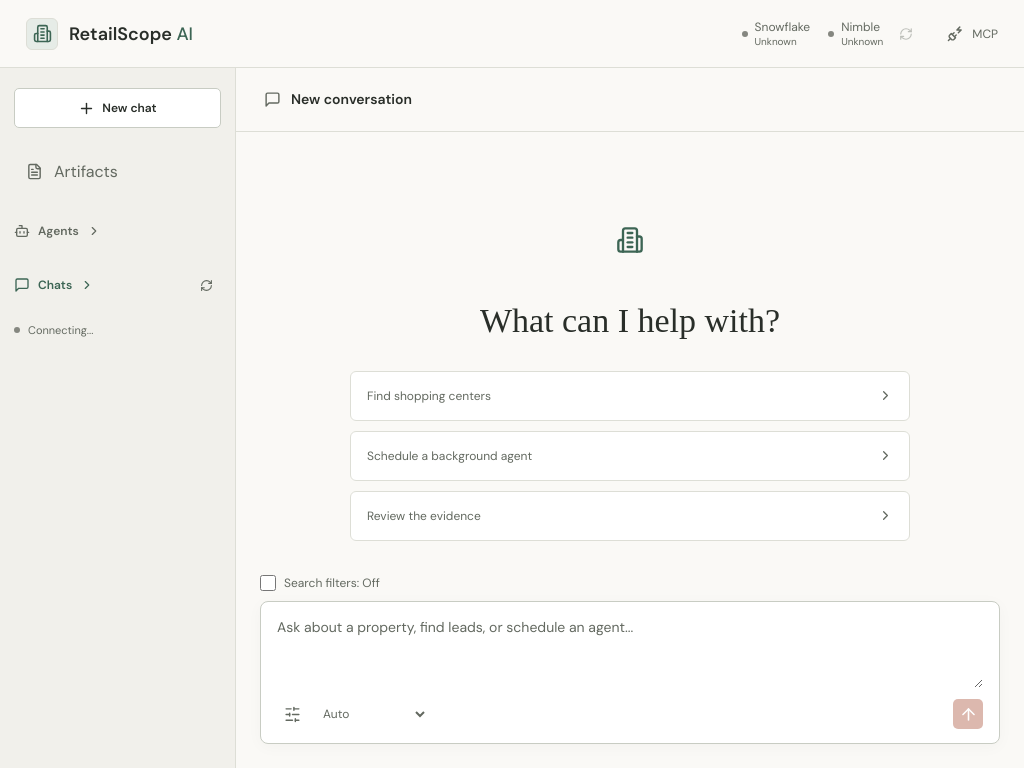
it: chat-first workspace › applies preferences to fresh research only when enabled=false
The image size is (1024, 768).
Click the button named "Search preferences" at (292, 714), box [277,699,307,729]
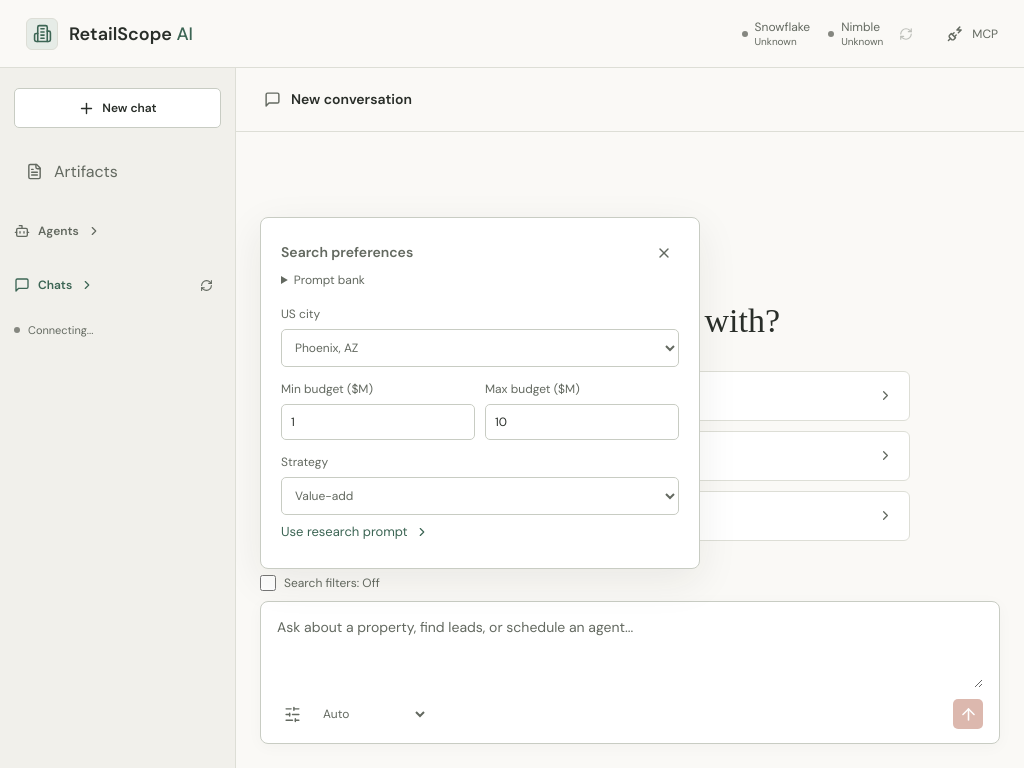
Select "Austin, TX" in the dropdown labelled "US city" at (480, 348), box [281,329,679,367]
Replace the text in the number field labelled "Min budget ($M)" with "2" at (378, 422), box [281,404,475,440]
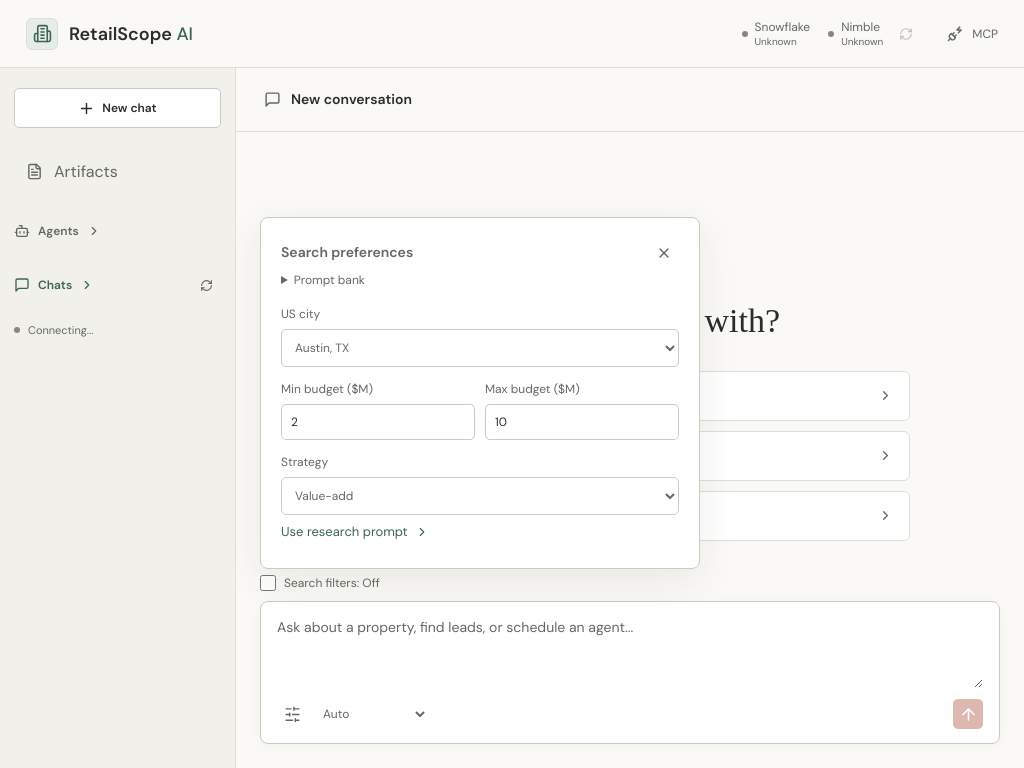
Select "Income" in the dropdown labelled "Strategy" at (480, 496), box [281,477,679,515]
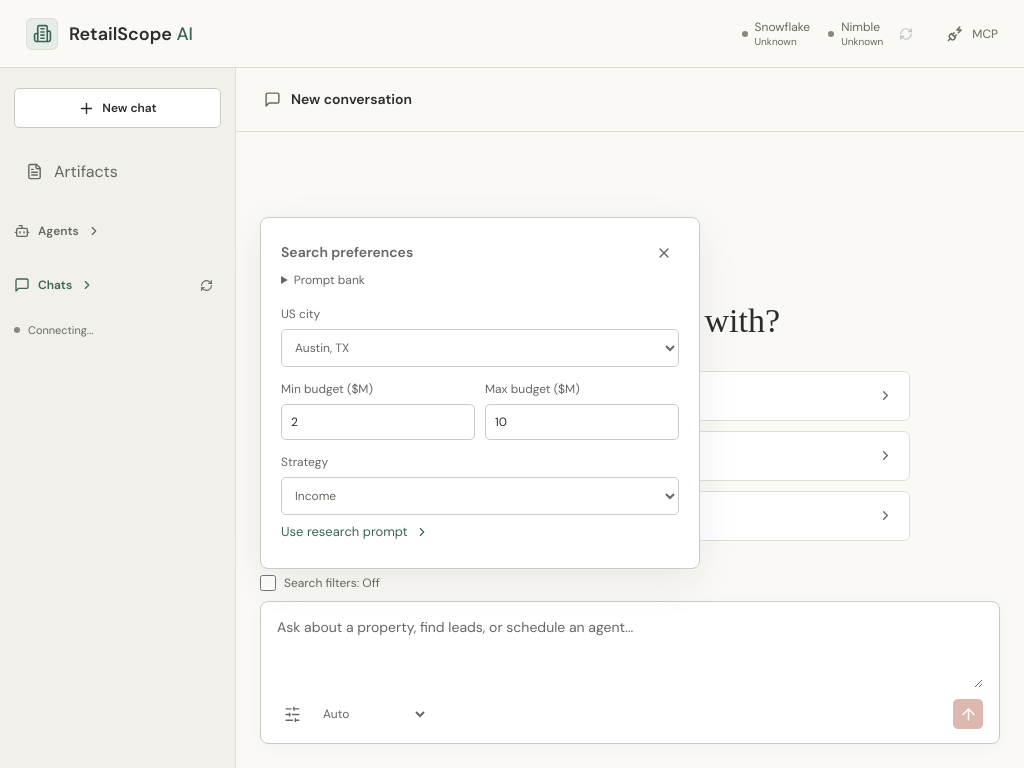
Click the button named "Close preferences" at (664, 253), box [649,238,679,268]
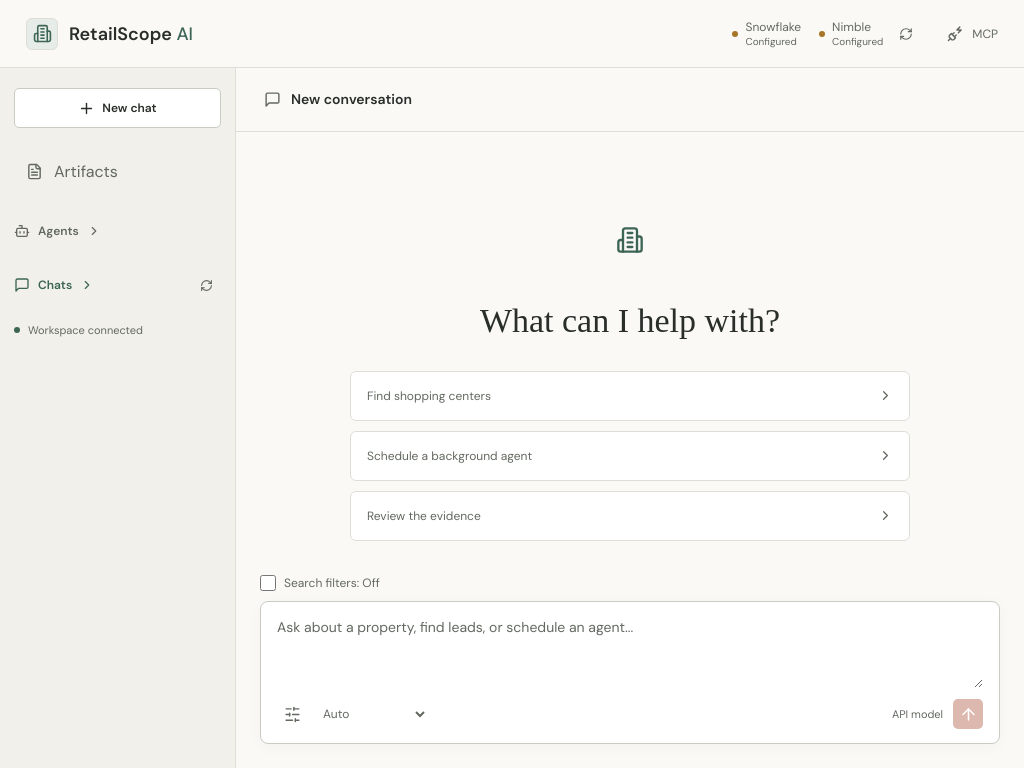
expect the text "Workspace connected" is shown: met, box [14,323,143,337]
Type "Find retail properties" into the text box named "Message RetailScope" at (630, 652), box [277,616,983,688]
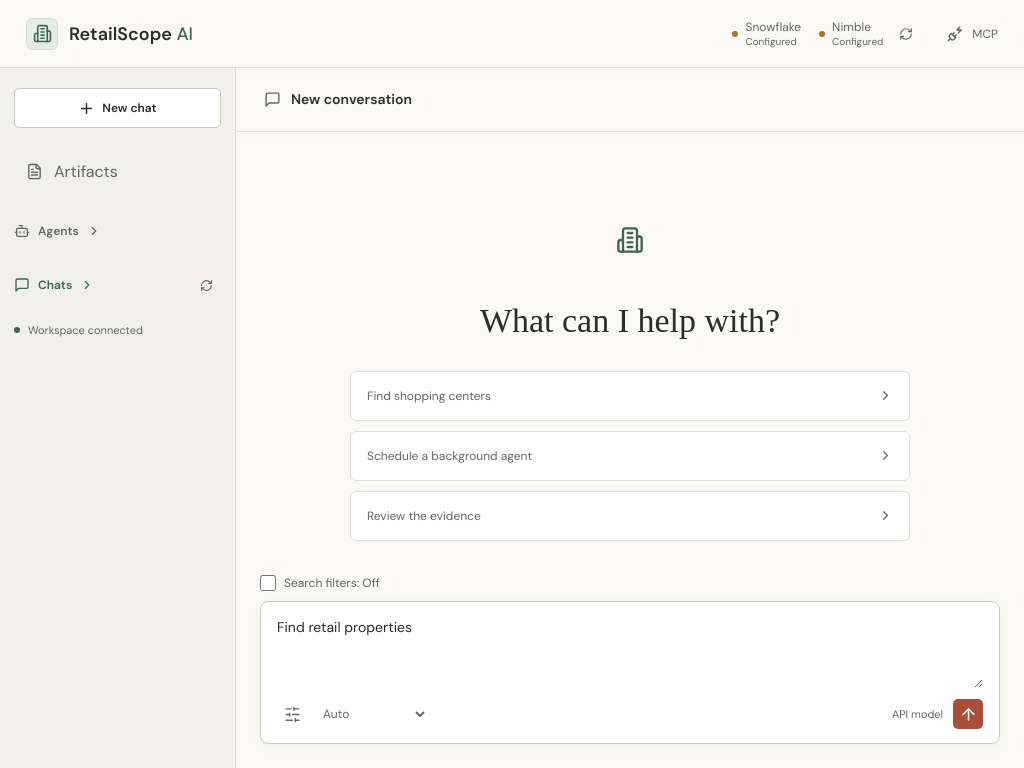
Click the button named "Send message" at (968, 714), box [953,699,983,729]
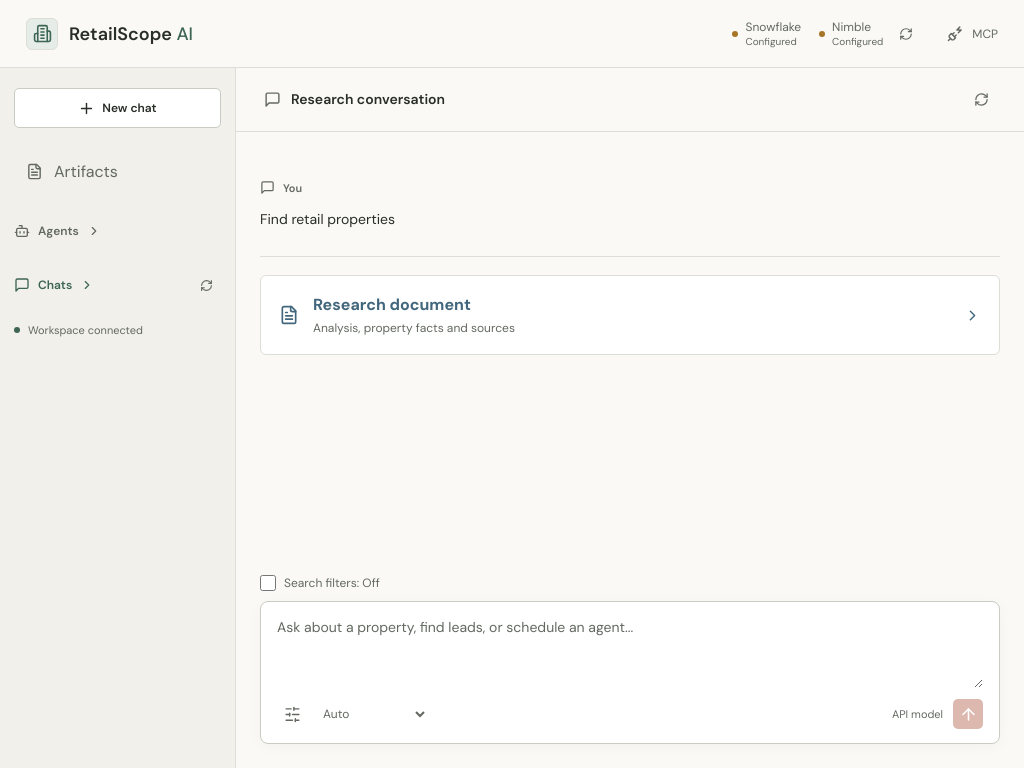
expect the button "New chat" is enabled: met, box [14,88,221,128]
expect the text "Find retail properties" is shown: met, box [260,210,395,228]
